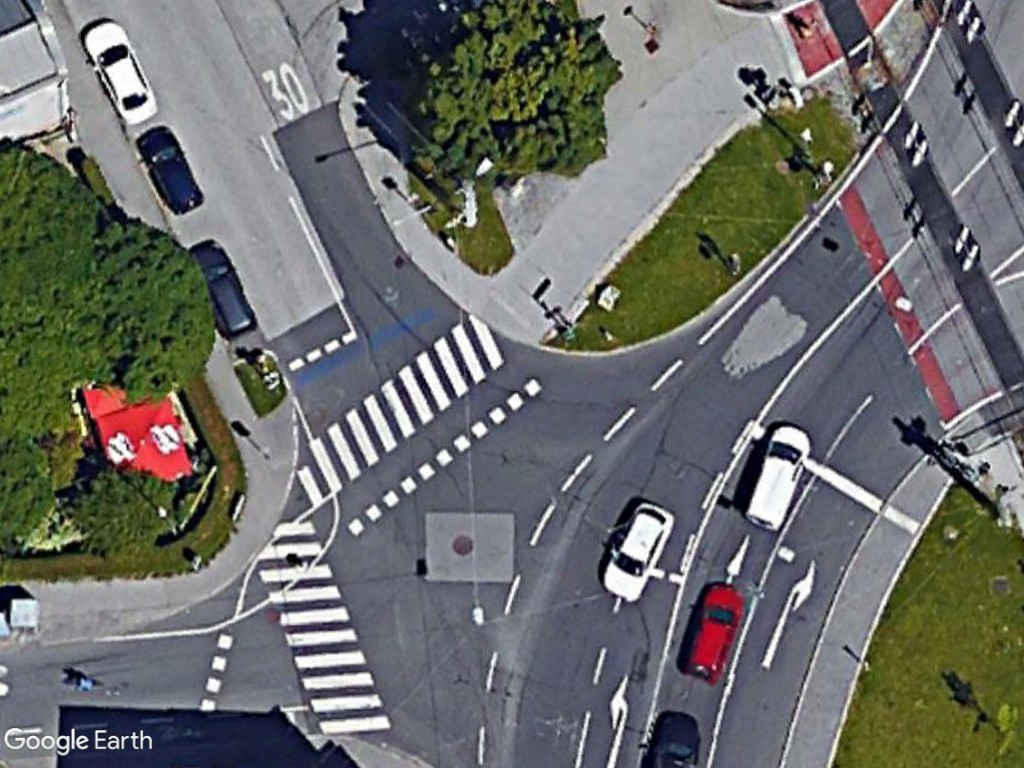car: (73, 17, 162, 131), (597, 492, 674, 607), (676, 576, 744, 686), (129, 122, 206, 219)
van: (739, 417, 813, 535)
